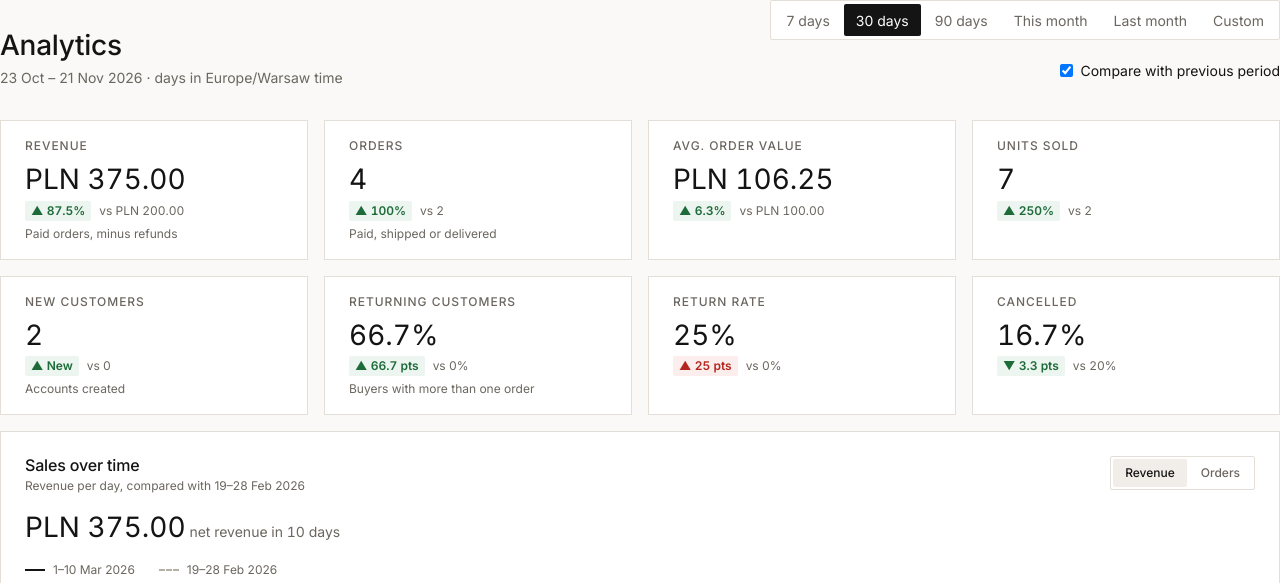
Analytics › loads the last 30 days by default and switches periods through the URL
Later steps or results of the test are not shown.
Click the button "7 days": (808, 20) [774, 4, 842, 36]
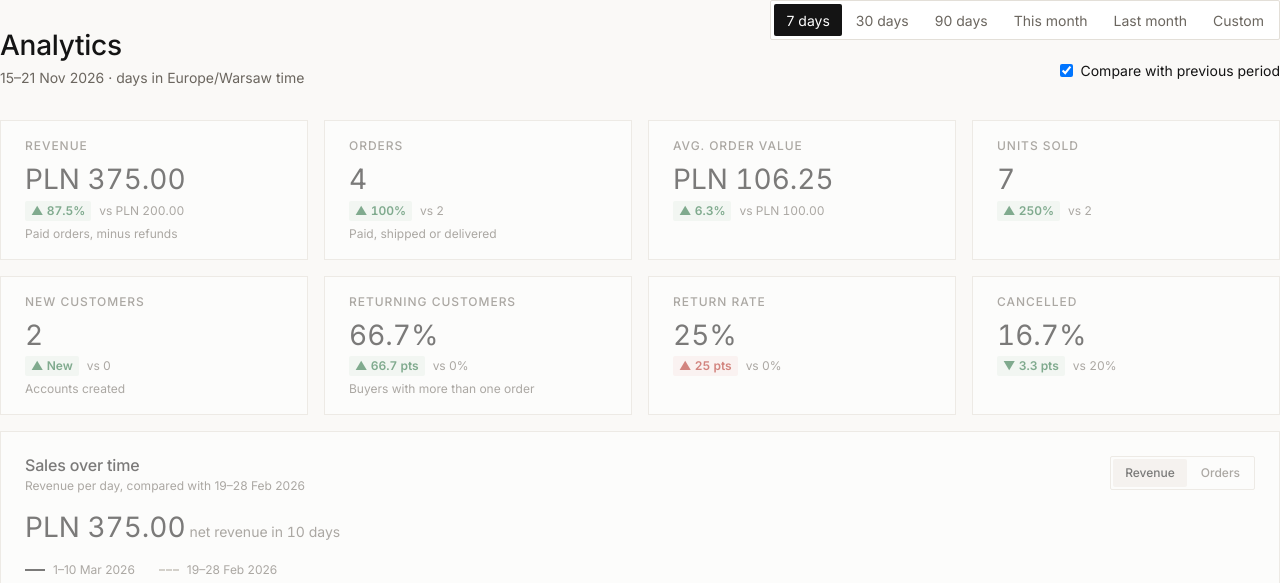
Check: the button "7 days" is pressed, box [774, 4, 842, 36]
